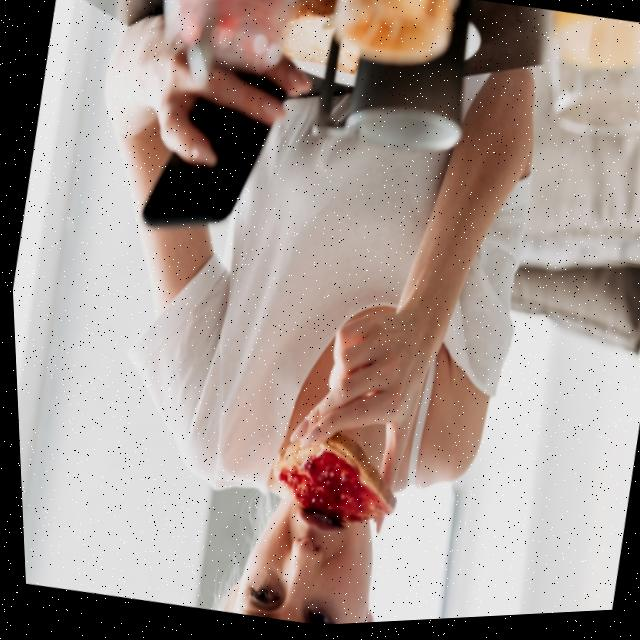eating-person: (2, 0, 602, 640)
